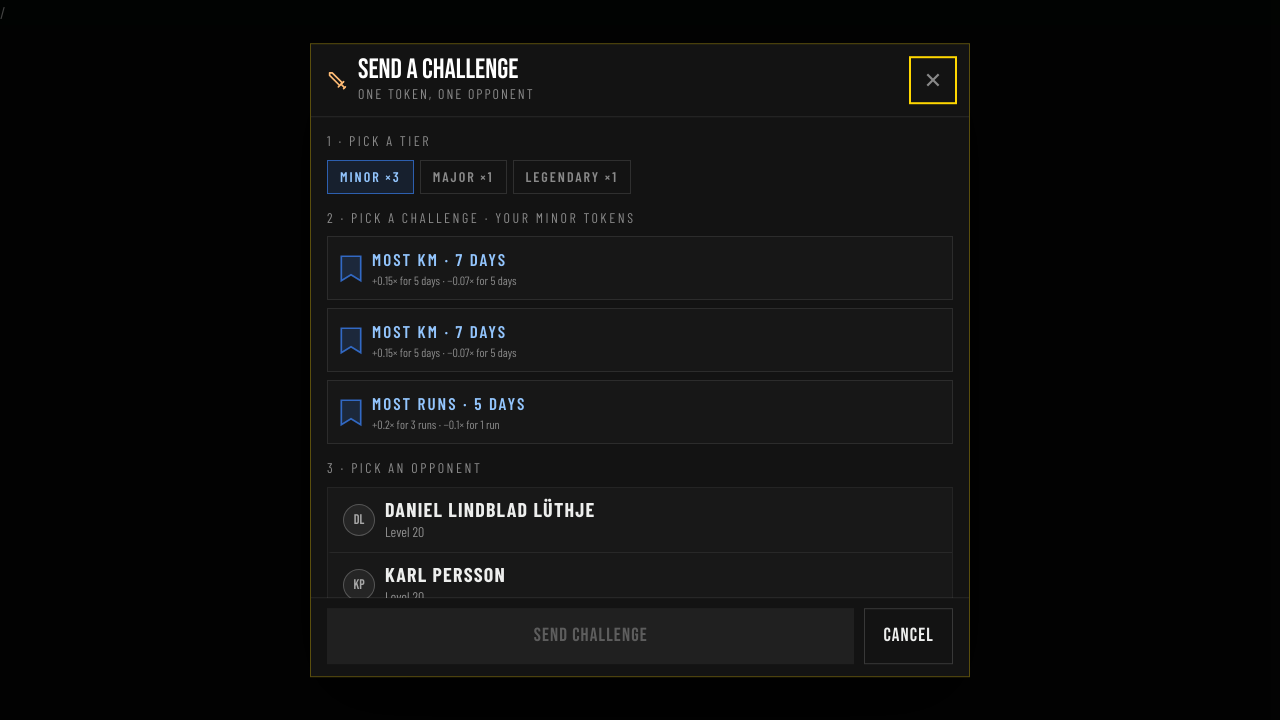
Scenario: Send flow: sending and cancelling › Send challenge is disabled until a tier, a token and an opponent are chosen
Check: the button "Send challenge" is disabled, box [327,608,854,664]
Click the 1st radio button labelled "Most km · 7 days +0.15× for 5 days · −0.07× for 5 days" at (640, 268), box [327,236,953,300]
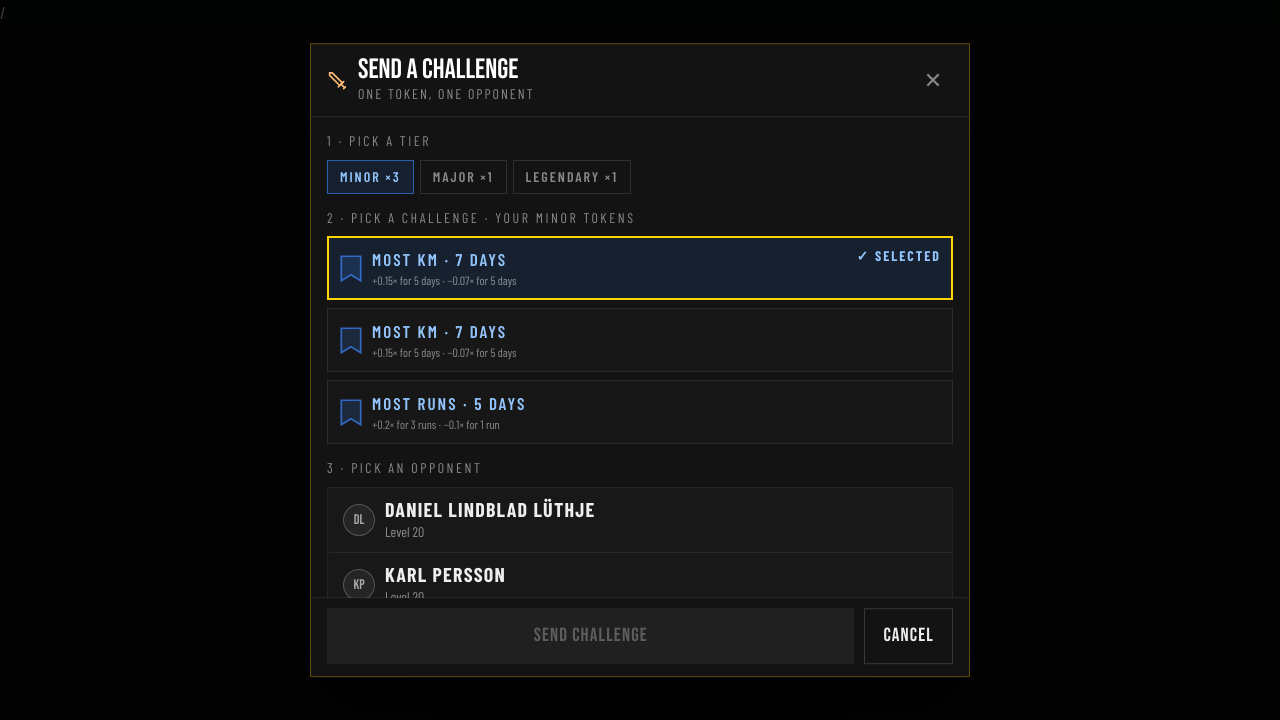
Check: the button "Send challenge" is disabled, box [327,608,854,664]
Click the radio button labelled "KP Karl Persson Level 20" at (359, 585), box [328,552,952,617]
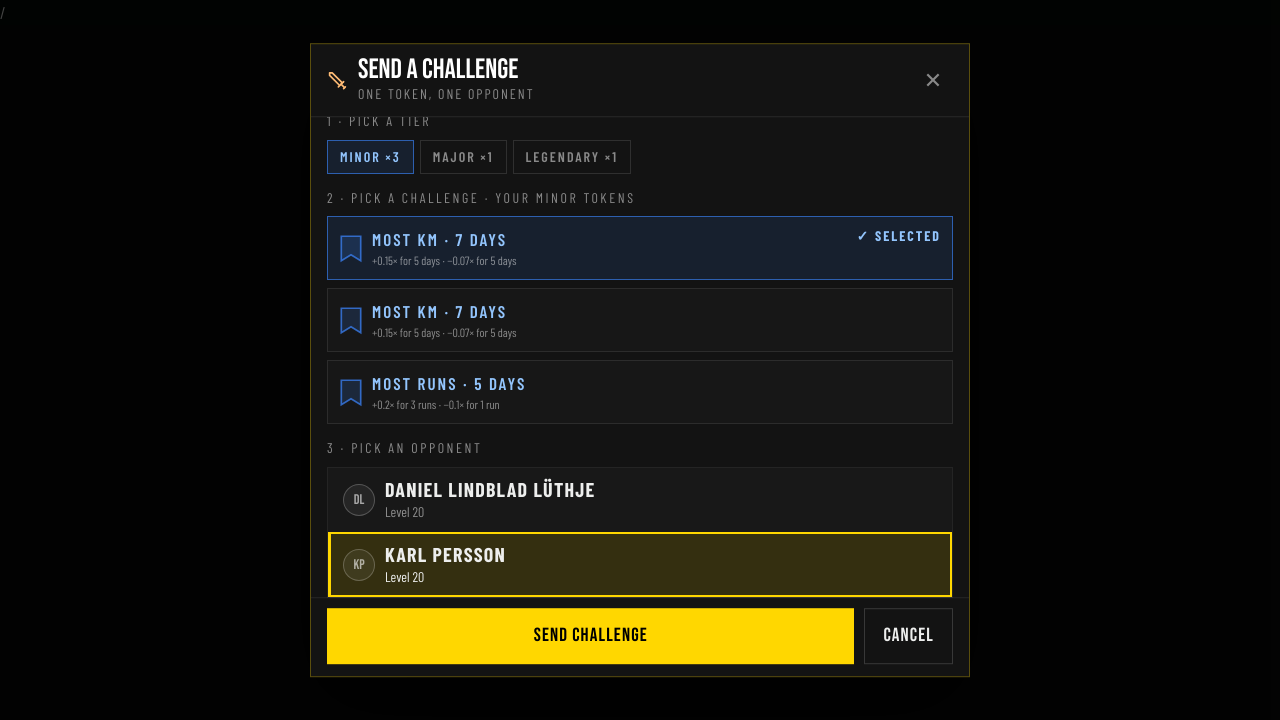
Check: the button "Send challenge" is enabled, box [327,608,854,664]
